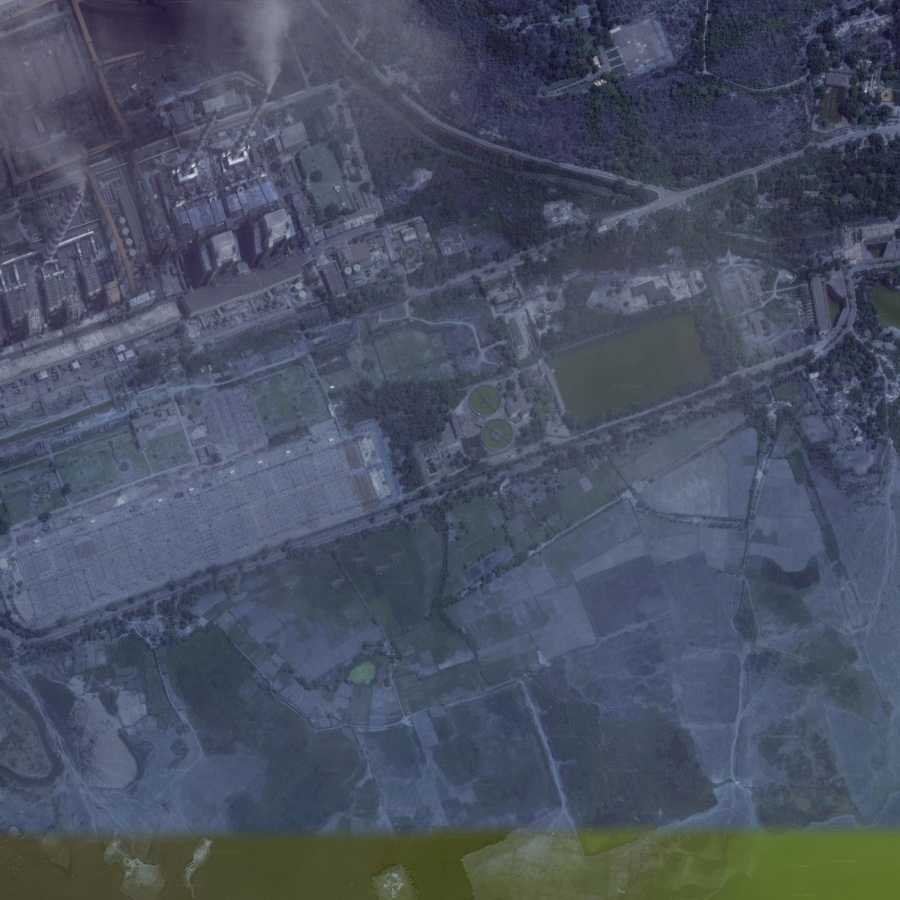PowerPlant: (539, 292, 721, 440)
